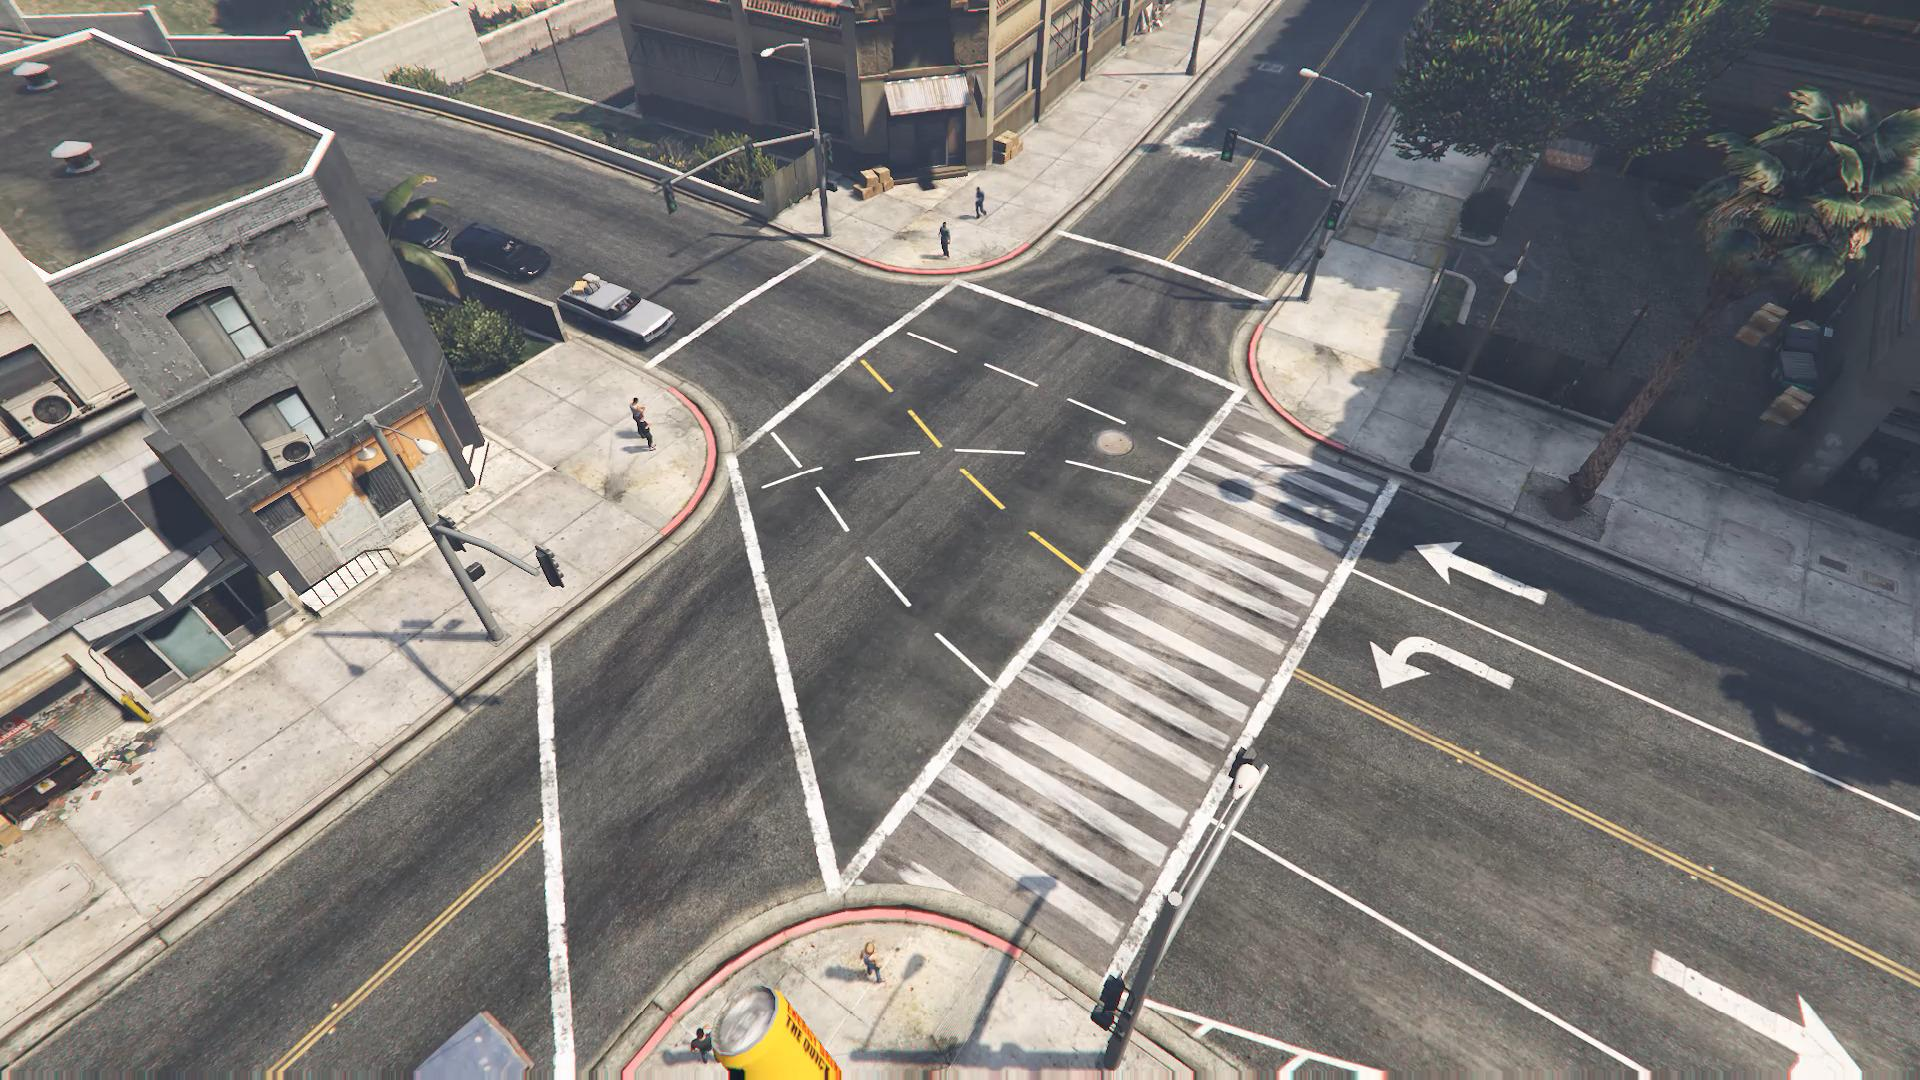car: (556, 272, 675, 347), (411, 1010, 535, 1080), (450, 222, 550, 281), (390, 214, 448, 252)
